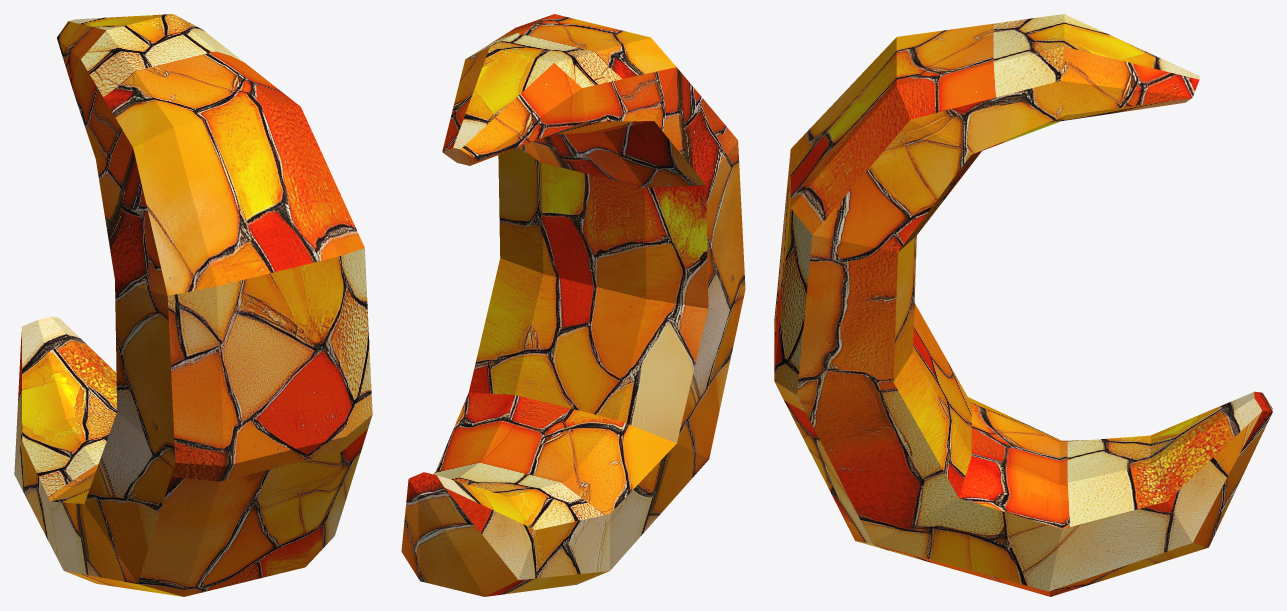
File: gemstone9Orange.glb
The picture shows the model from 3 angles, left to right: view 1: azimuth 30°, elevation 25°; view 2: azimuth 150°, elevation 25°; view 3: azimuth 270°, elevation 25°; orthographic projection. The views are drawn at different scales.
Parts seen in each view (by area): view 1: gemstoneMoon; view 2: gemstoneMoon; view 3: gemstoneMoon.
Boxes of the visible parts, x1,y1,x2,y2 form: gemstoneMoon: (14,14,372,596); gemstoneMoon: (401,14,745,596); gemstoneMoon: (774,14,1272,596).
Size of the model in its own units: 0.5 by 1.2 by 1.
1 material, 1 textured.
